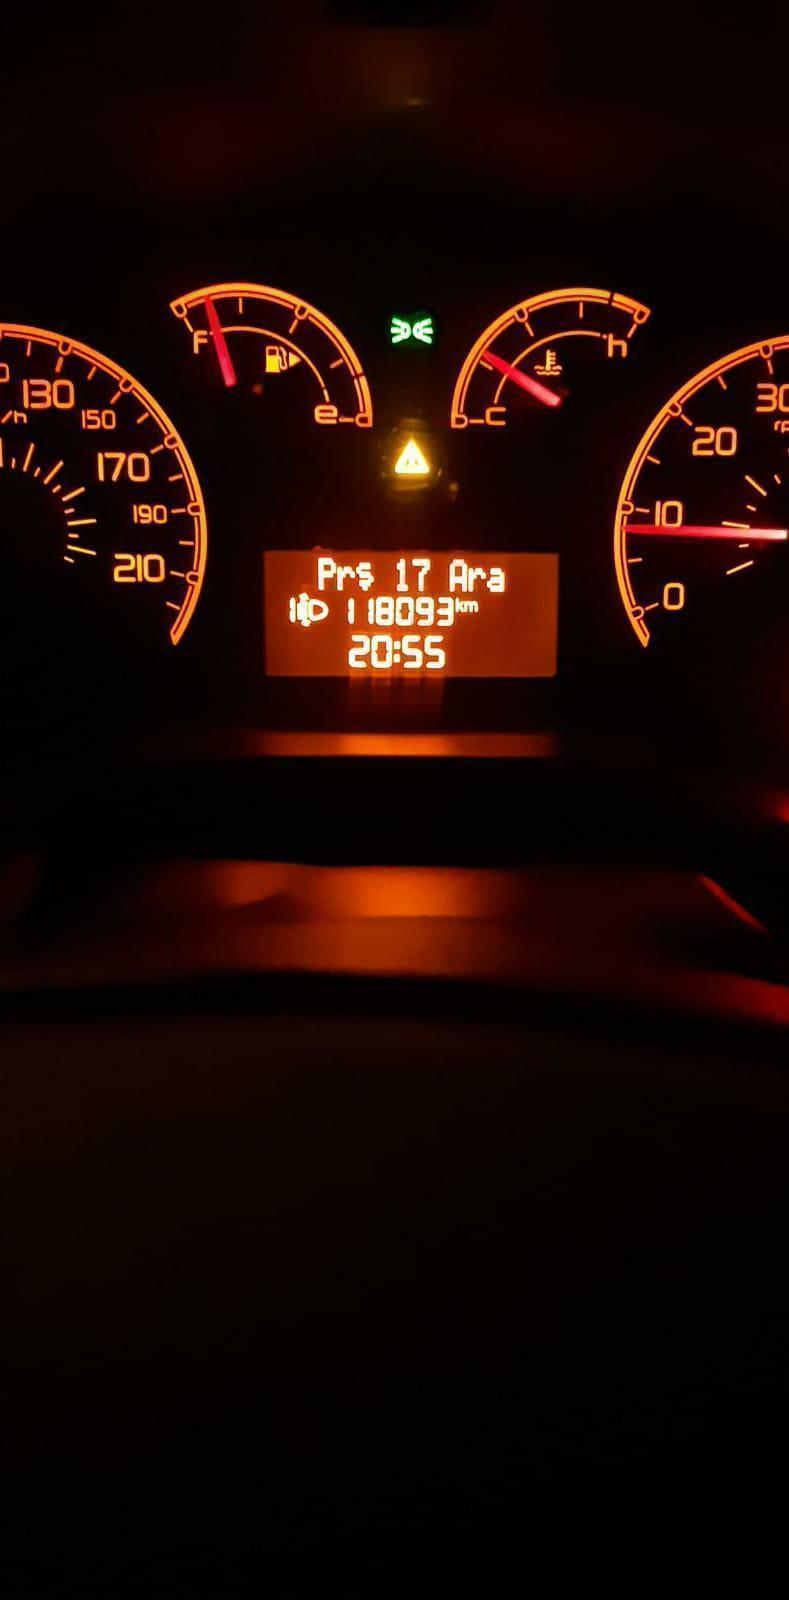0: (369, 634, 392, 669), (395, 595, 413, 627)
1: (394, 557, 409, 593), (287, 594, 297, 626), (345, 595, 355, 626), (366, 594, 375, 627)
2: (348, 632, 369, 669)
3: (436, 594, 454, 626)
5: (424, 634, 445, 669), (402, 634, 423, 669)
7: (411, 557, 432, 591)
8: (375, 594, 394, 624)
9: (415, 595, 434, 624)
X: (316, 554, 335, 592), (448, 558, 467, 592), (357, 560, 374, 591), (487, 566, 506, 592), (337, 563, 355, 590), (469, 566, 486, 592), (464, 599, 480, 613), (393, 638, 401, 663), (454, 596, 463, 613)
odometer: (259, 546, 562, 681)
